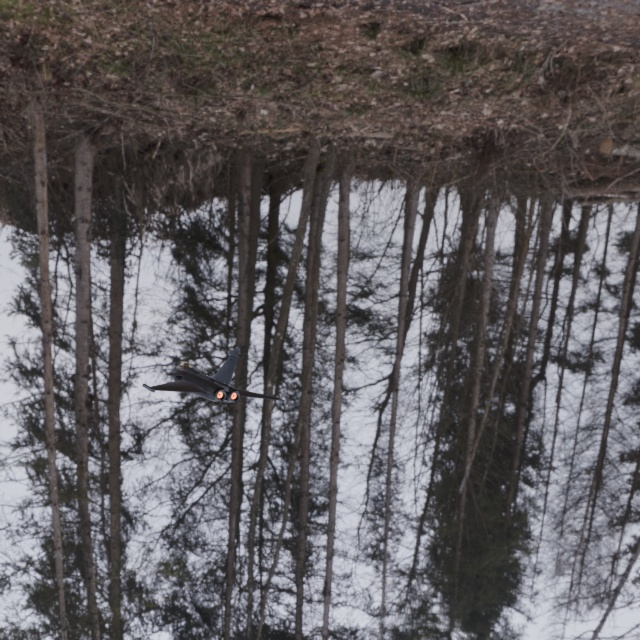dassault_rafale: (112, 324, 307, 415)
